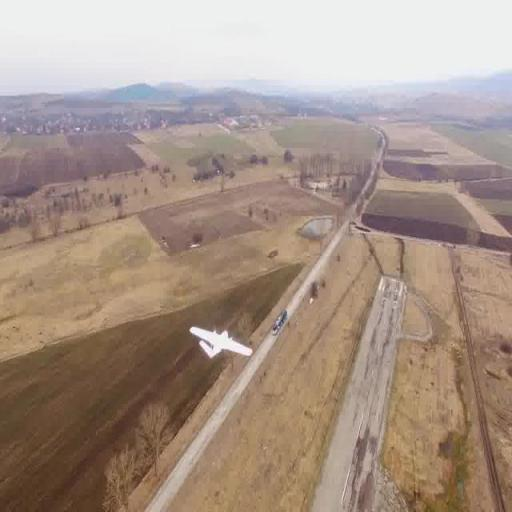uav: (185, 306, 258, 382)
